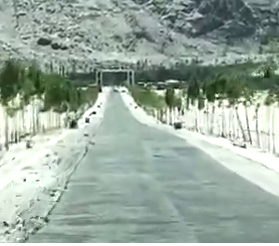left: (95, 117, 188, 220)
